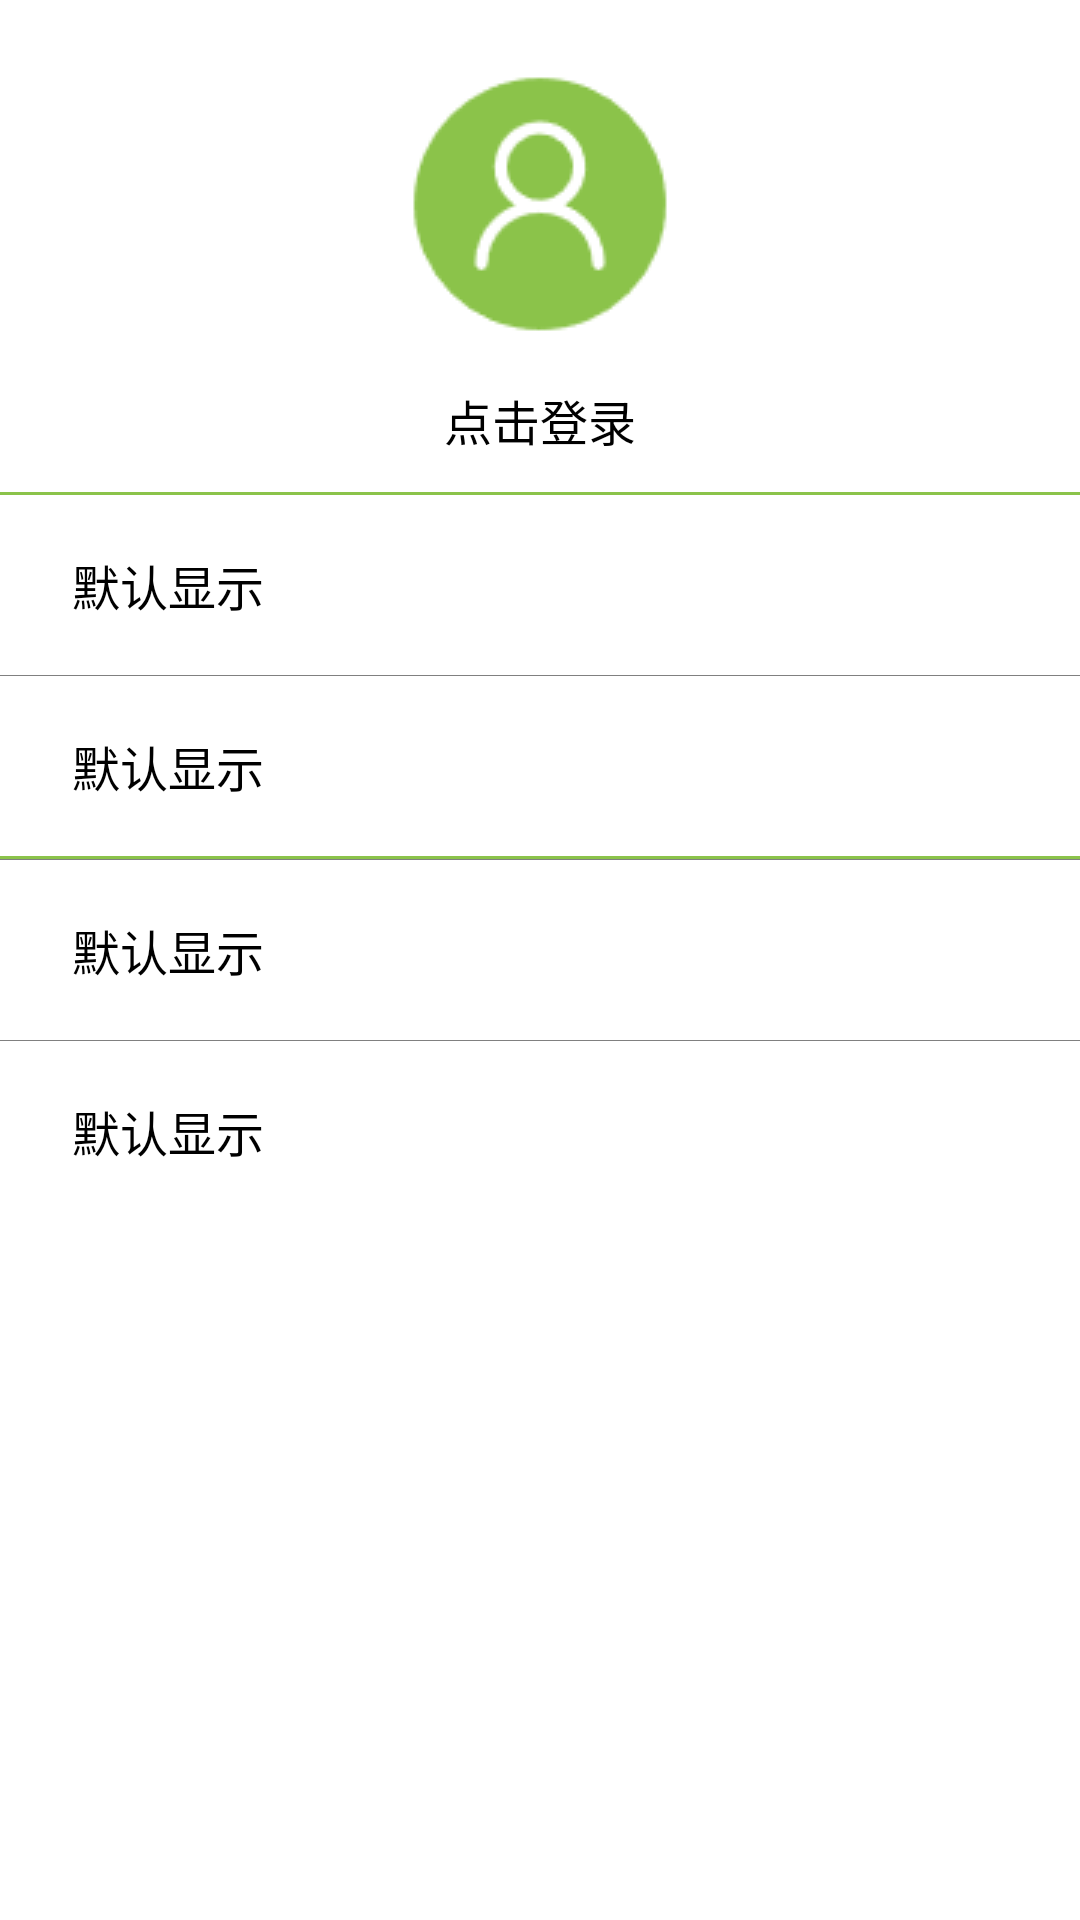

Icons on this 1080px x 1920px Android screen, each with its box as (x1, y1, x2, y2):
portrait: (413, 77, 667, 331)
